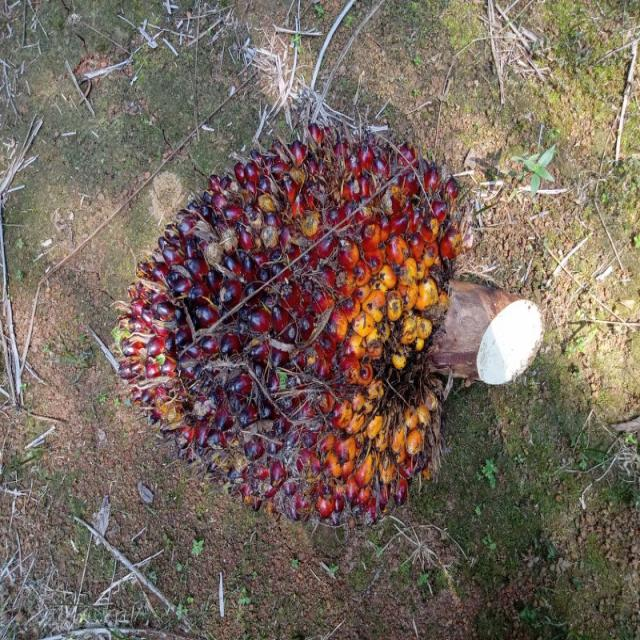fraksi 1: (106, 116, 460, 525)
